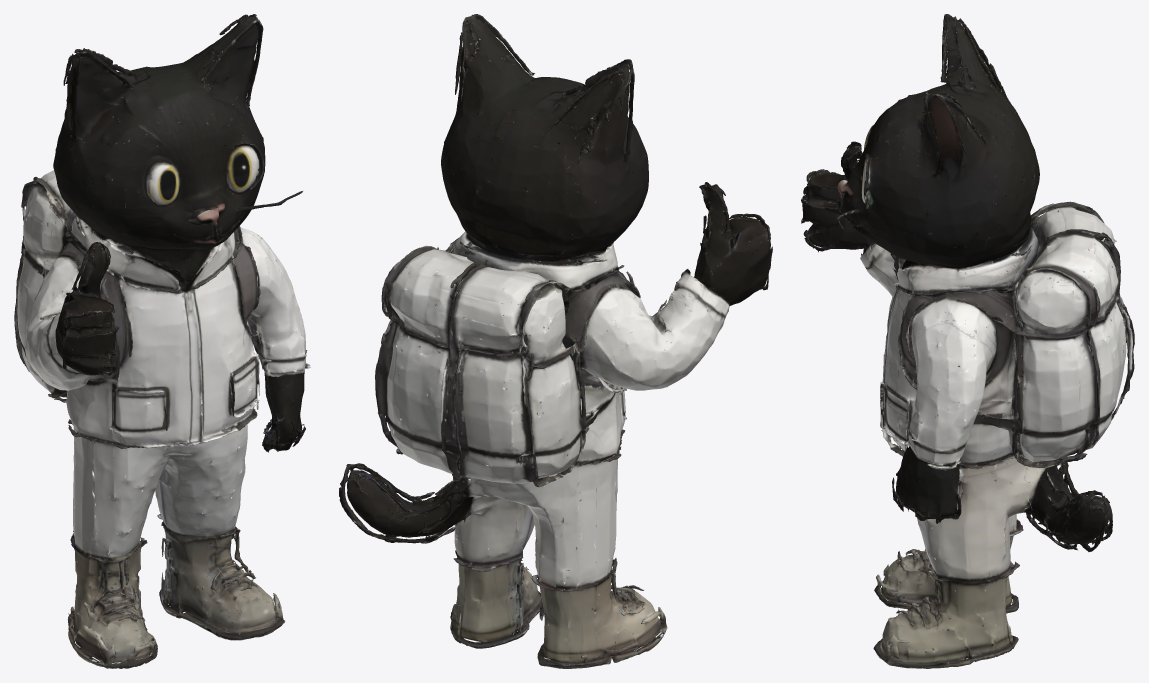
Rendered from checkpoint0.glb.
The picture shows the model from 3 angles, left to right: view 1: azimuth 30°, elevation 25°; view 2: azimuth 150°, elevation 25°; view 3: azimuth 270°, elevation 25°; orthographic projection. The views are drawn at different scales.
Bounding box in the file's own units: 1.06 × 2 × 1.05.
1 material, 1 textured.
